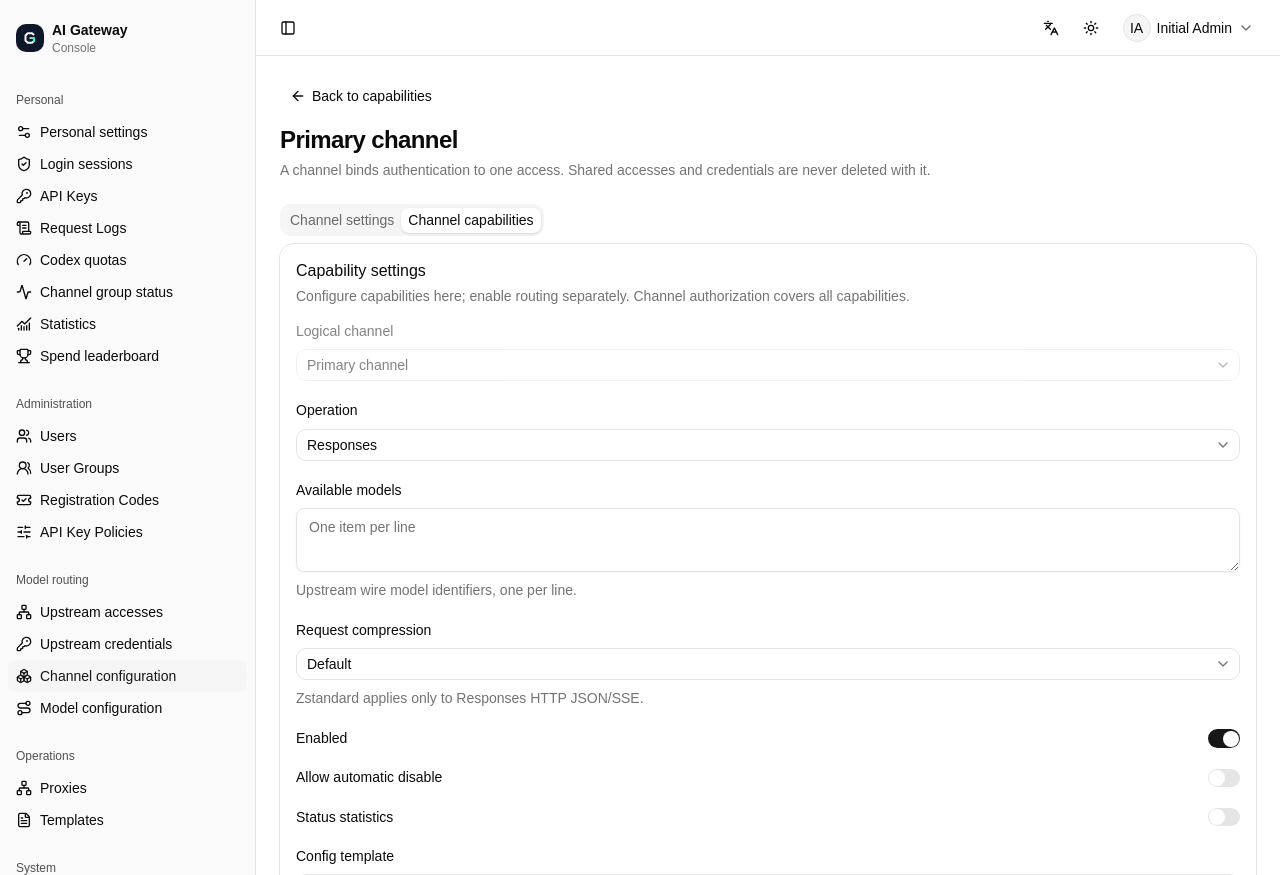
Test: channel capabilities › limits operation choices to the selected provider manifest
Click the dropdown named "Operation". click: (342, 444)
box: [296,428,1240,460]
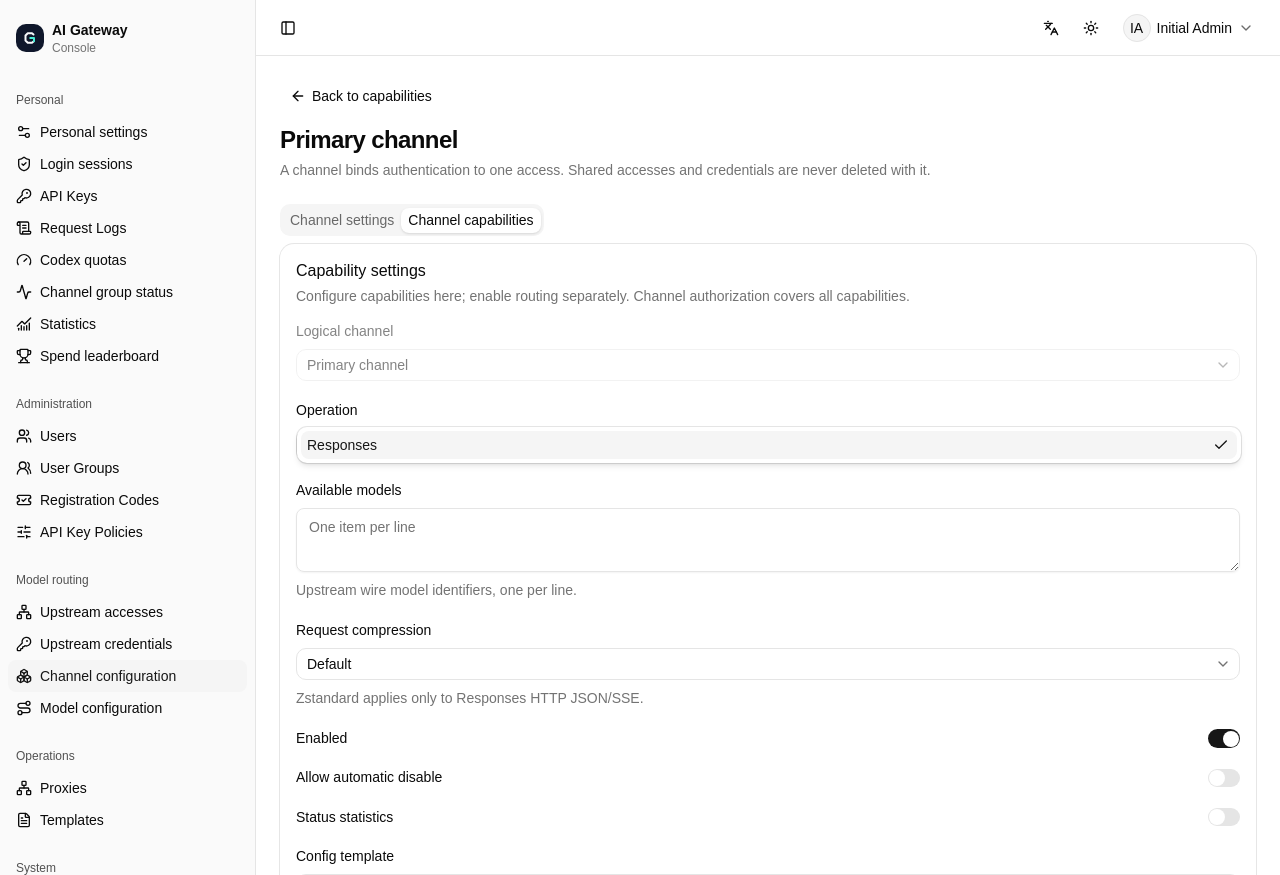
Expected: the option "Responses" is shown, [301,430,1237,458]
